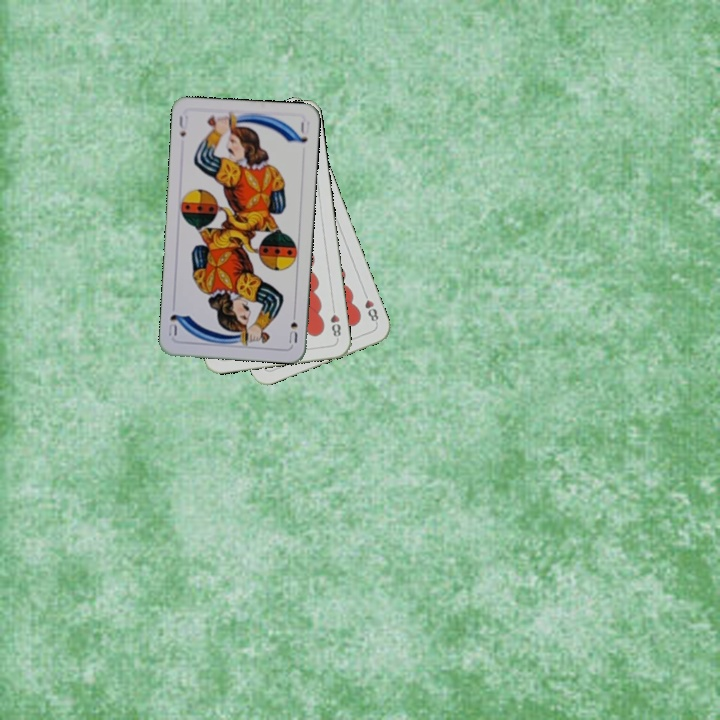H8: (359, 287, 381, 327), (326, 302, 343, 342)
SU: (285, 306, 300, 346), (175, 111, 191, 140)
